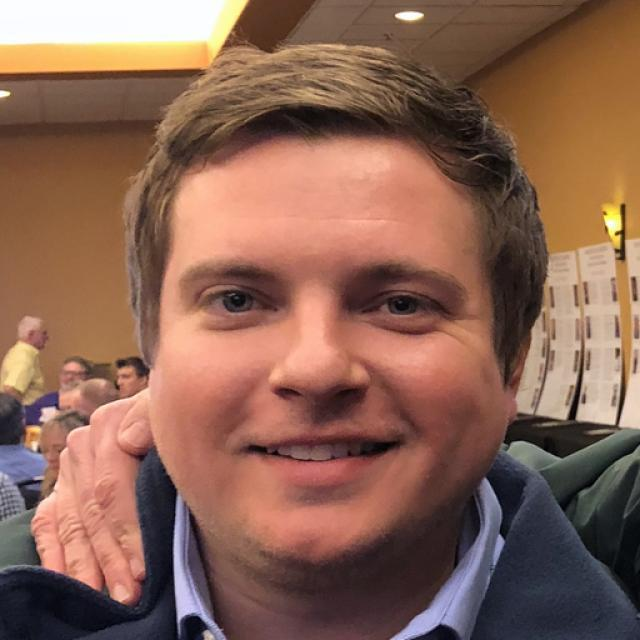happy: (148, 125, 512, 575)
